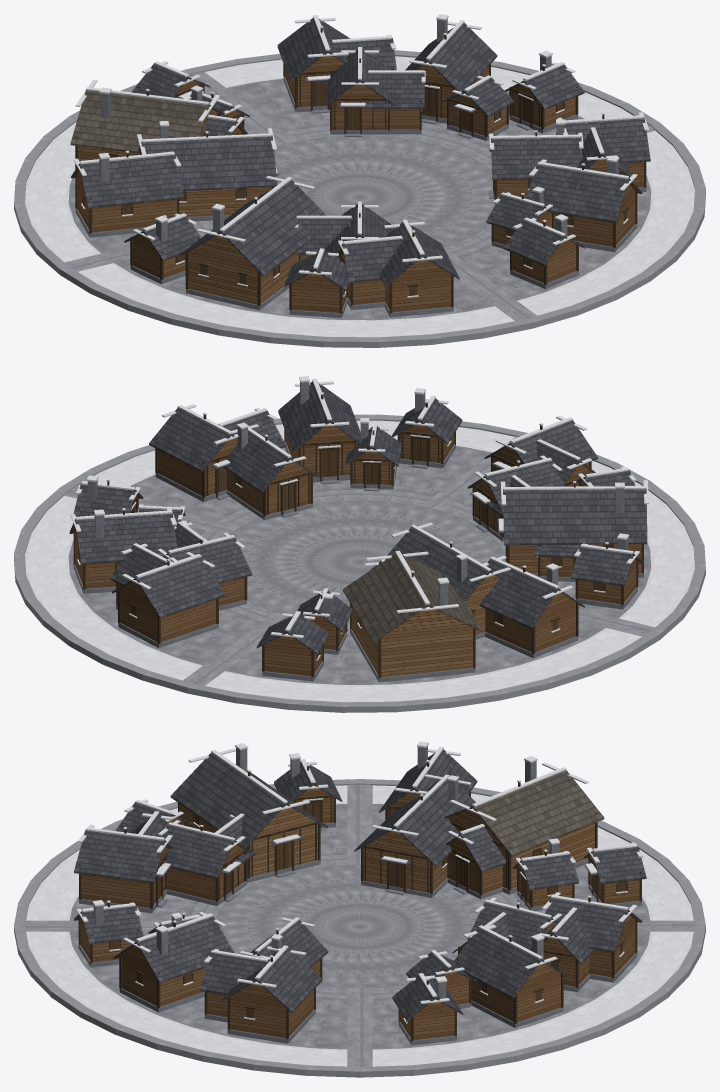
Rendered from village_small_lod0.glb.
3 renders of one model, top to bottom at view 1: azimuth 30°, elevation 25°; view 2: azimuth 150°, elevation 25°; view 3: azimuth 270°, elevation 25°, orthographic.
Parts seen in each view (by area): view 1: ae_snow_village_small_lod0; view 2: ae_snow_village_small_lod0; view 3: ae_snow_village_small_lod0.
Boxes of the visible parts, <box> form: ae_snow_village_small_lod0: <box>14,14,705,347</box>; ae_snow_village_small_lod0: <box>14,376,705,712</box>; ae_snow_village_small_lod0: <box>14,741,705,1077</box>.
Size of the model in its own units: 1.9 by 0.2738 by 1.9.
1 material, 1 textured.
